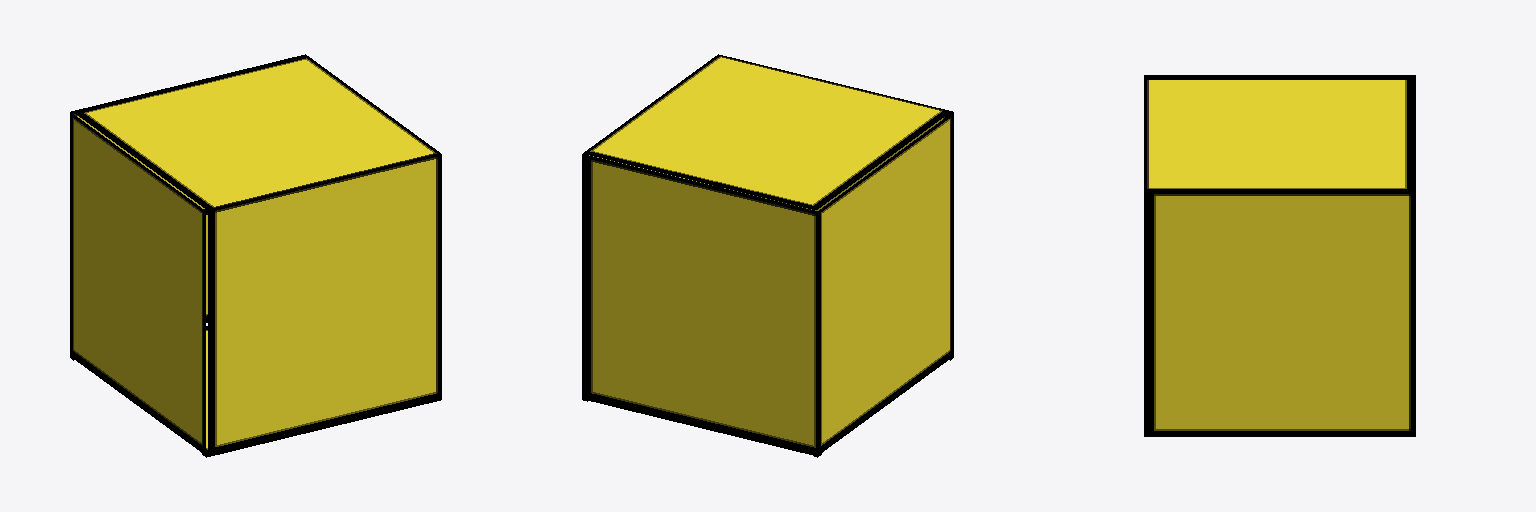
3 renders of one model, left to right at view 1: azimuth 30°, elevation 25°; view 2: azimuth 150°, elevation 25°; view 3: azimuth 270°, elevation 25°, orthographic.
Visible parts, largest first — view 1: dice; view 2: dice; view 3: dice.
Boxes of the visible parts, x1,y1,x2,y2 form: dice: [70, 54, 441, 457]; dice: [582, 54, 953, 457]; dice: [1144, 75, 1415, 436].
Size of the model in its own units: 64 by 64 by 64.
1 materials, 1 textured.